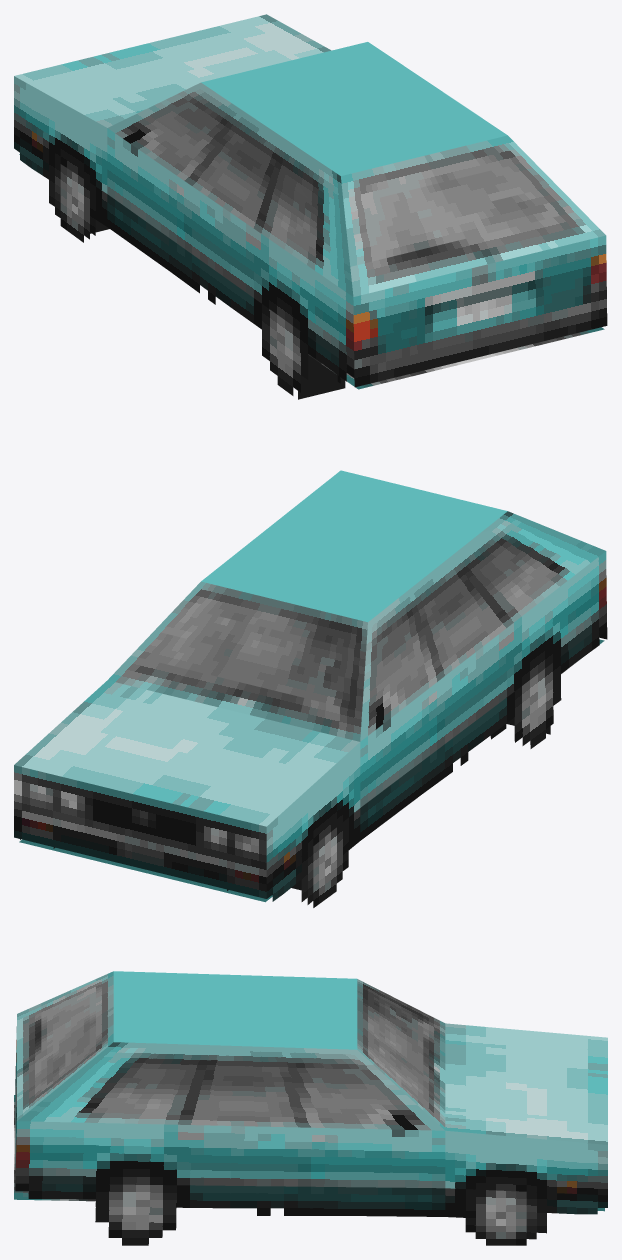
The model's file is car-wagon.glb.
3 renders of one model, top to bottom at view 1: azimuth 30°, elevation 25°; view 2: azimuth 150°, elevation 25°; view 3: azimuth 270°, elevation 25°, orthographic. The views are drawn at different scales.
Visible parts, largest first — view 1: plt0; view 2: plt0; view 3: plt0.
Part boxes in pixels (x1,y1,x2,y2): plt0: (14, 14, 607, 399); plt0: (14, 470, 607, 907); plt0: (14, 971, 607, 1245).
Size of the model in its own units: 1.89 by 1.52 by 4.42.
Materials: 13 (13 with a texture image).
